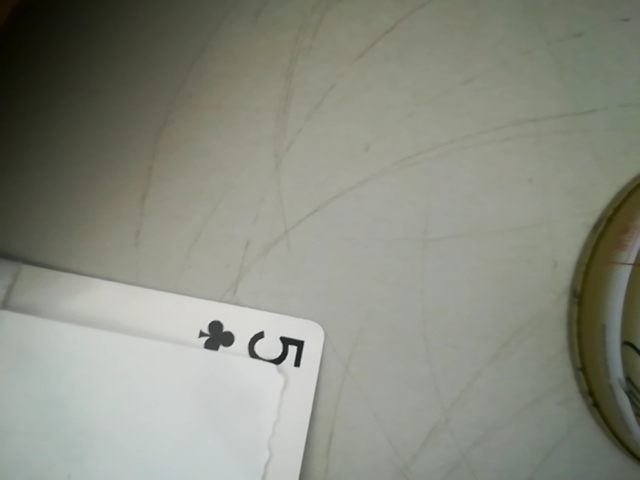mh 5: (192, 313, 324, 375)
